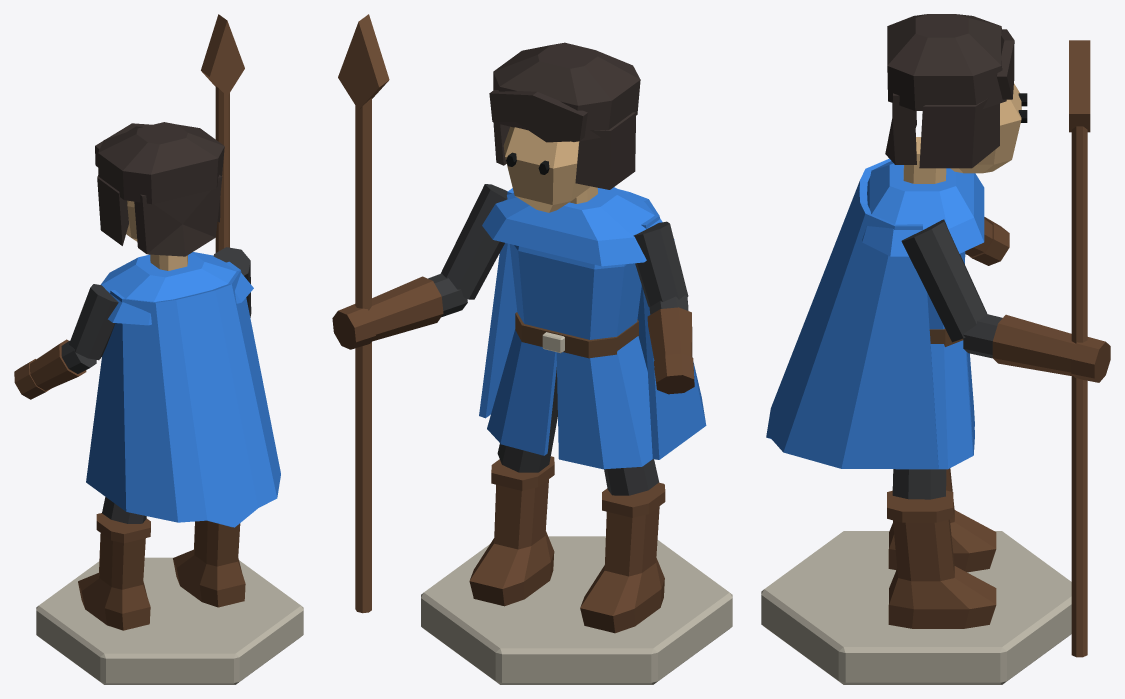
The model's file is human_soldier_t1.glb.
3 renders of one model, left to right at view 1: azimuth 30°, elevation 25°; view 2: azimuth 150°, elevation 25°; view 3: azimuth 270°, elevation 25°, orthographic. The views are drawn at different scales.
Parts seen in each view (by area): view 1: soldier_Wrapped_Back_Cape, Foundation_Hexagonal_Stone, short_hair, Continuous_Shoulder_Mantle, Boot_-1, short_hair_back, Boot_1, left_upper_sleeve, wooden_spear_point, wooden_spear_shaft, short_hair_side_-1, left_bracer (+6 smaller); view 2: Foundation_Hexagonal_Stone, Continuous_Tunic_Bodice, Continuous_Shoulder_Mantle, short_hair, wooden_spear_shaft, Continuous_Split_Tunic_Skirt, soldier_Wrapped_Back_Cape, Boot_1, Boot_-1, Angular_Face, Split_Tunic_Front_1, Split_Tunic_Front_-1 (+15 smaller); view 3: soldier_Wrapped_Back_Cape, Foundation_Hexagonal_Stone, short_hair, Boot_1, wooden_spear_shaft, Continuous_Shoulder_Mantle, right_upper_sleeve, short_hair_side_1, Continuous_Split_Tunic_Skirt, right_bracer, Boot_-1, wooden_spear_point (+9 smaller).
Boxes of the visible parts, bbox=[...] form: soldier_Wrapped_Back_Cape: bbox=[86, 261, 280, 527]; Foundation_Hexagonal_Stone: bbox=[36, 557, 303, 684]; short_hair: bbox=[98, 122, 224, 204]; Continuous_Shoulder_Mantle: bbox=[100, 252, 253, 325]; Boot_-1: bbox=[78, 533, 150, 630]; short_hair_back: bbox=[134, 175, 222, 256]; Boot_1: bbox=[173, 520, 245, 607]; left_upper_sleeve: bbox=[69, 284, 118, 360]; wooden_spear_point: bbox=[201, 14, 244, 96]; wooden_spear_shaft: bbox=[215, 86, 229, 252]; short_hair_side_-1: bbox=[97, 175, 128, 245]; left_bracer: bbox=[30, 339, 86, 390]; Foundation_Hexagonal_Stone: bbox=[421, 536, 732, 684]; Continuous_Tunic_Bodice: bbox=[509, 244, 641, 339]; Continuous_Shoulder_Mantle: bbox=[482, 187, 674, 266]; short_hair: bbox=[493, 42, 640, 141]; wooden_spear_shaft: bbox=[355, 98, 371, 613]; Continuous_Split_Tunic_Skirt: bbox=[487, 329, 652, 469]; soldier_Wrapped_Back_Cape: bbox=[479, 188, 706, 459]; Boot_1: bbox=[469, 479, 554, 606]; Boot_-1: bbox=[580, 506, 664, 633]; Angular_Face: bbox=[503, 126, 589, 212]; Split_Tunic_Front_1: bbox=[500, 342, 556, 455]; Split_Tunic_Front_-1: bbox=[556, 352, 604, 469]; soldier_Wrapped_Back_Cape: bbox=[766, 158, 938, 468]; Foundation_Hexagonal_Stone: bbox=[761, 531, 1071, 684]; short_hair: bbox=[887, 14, 1006, 110]; Boot_1: bbox=[888, 519, 996, 628]; wooden_spear_shaft: bbox=[1071, 126, 1087, 657]; Continuous_Shoulder_Mantle: bbox=[862, 161, 984, 256]; right_upper_sleeve: bbox=[901, 219, 987, 342]; short_hair_side_1: bbox=[919, 98, 999, 168]; Continuous_Split_Tunic_Skirt: bbox=[895, 340, 972, 469]; right_bracer: bbox=[992, 314, 1075, 375]; Boot_-1: bbox=[888, 468, 996, 572]; wooden_spear_point: bbox=[1069, 40, 1090, 132].
Size of the model in its own units: 1.07 by 2.08 by 1.
